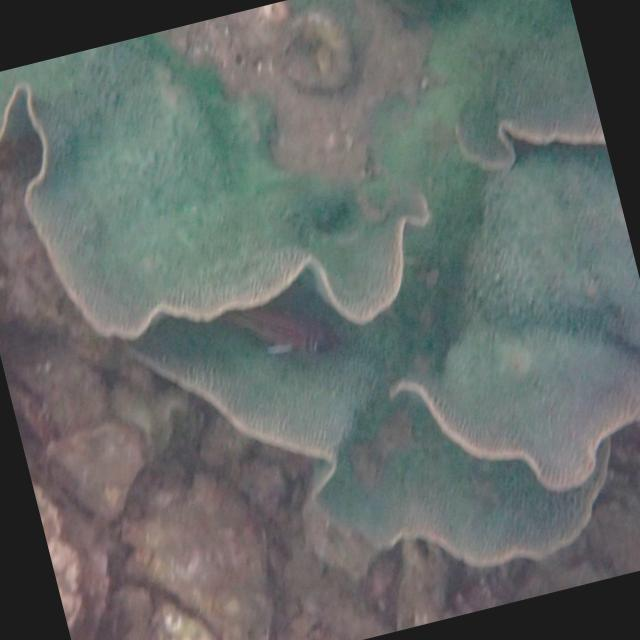Asker Baligi: (216, 274, 351, 385)
